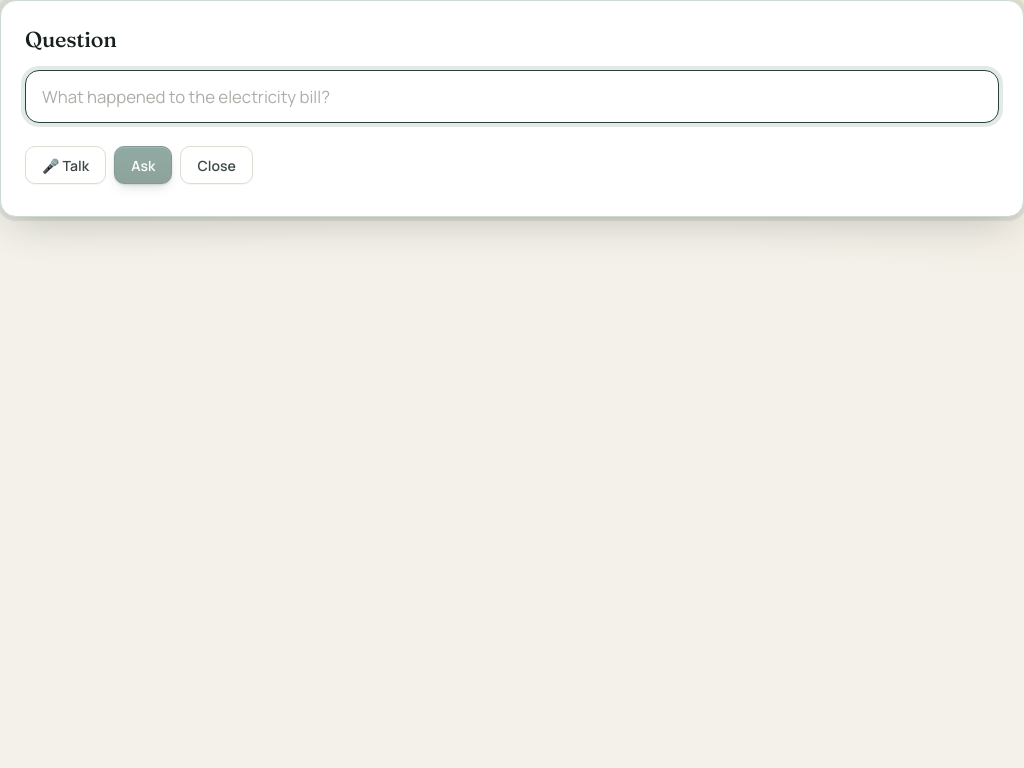
Spoken corrections › cancelling the proposal leaves the record unchanged
The image size is (1024, 768).
Type "Change the property on this bill to Oak Street" into the field labelled "Question" at (512, 97), box [25,70,999,123]
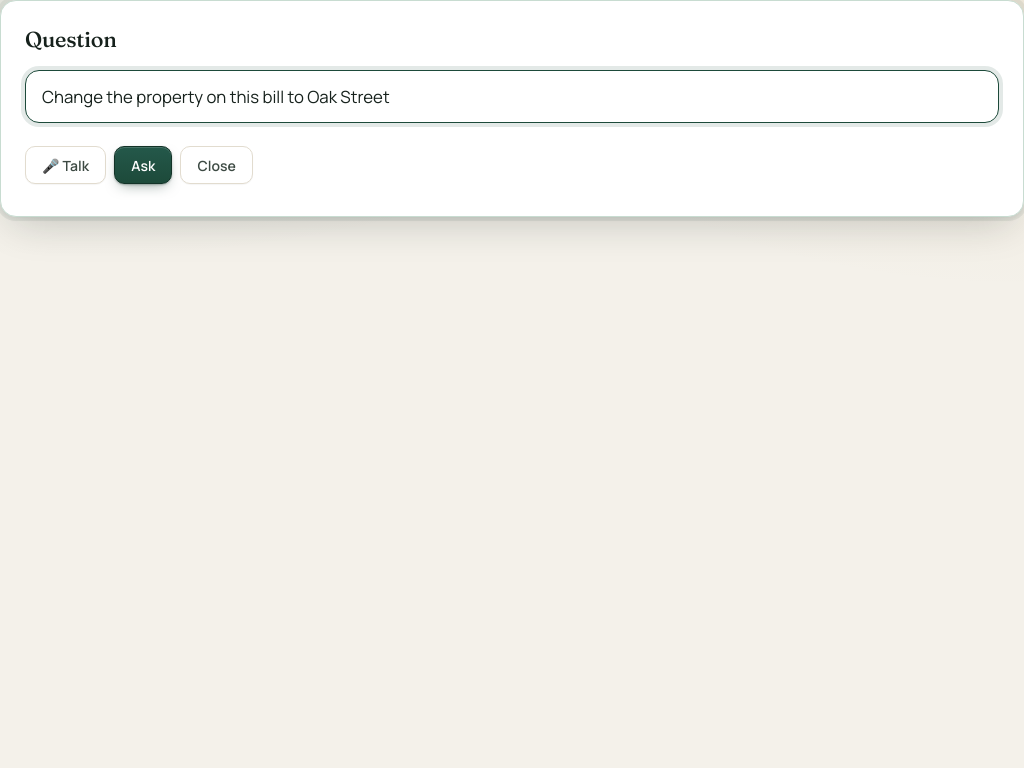
Click the button "Ask" at (143, 165), box [114,146,172,184]
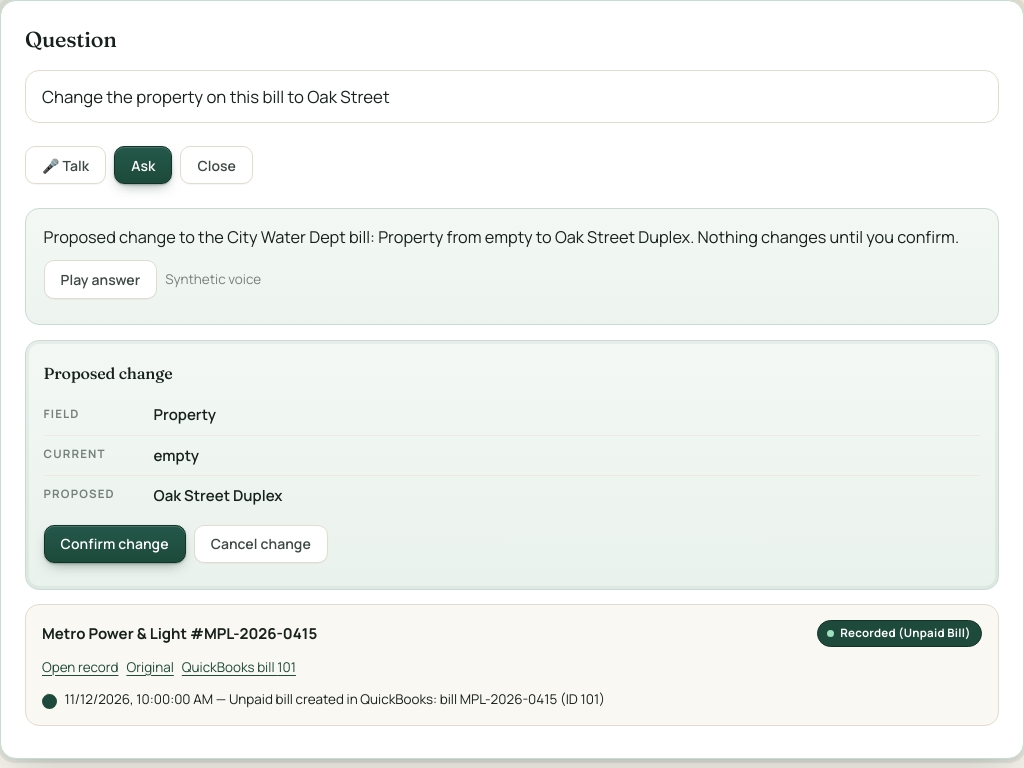
Click the button "Cancel change" at (261, 544), box [194,525,328,563]
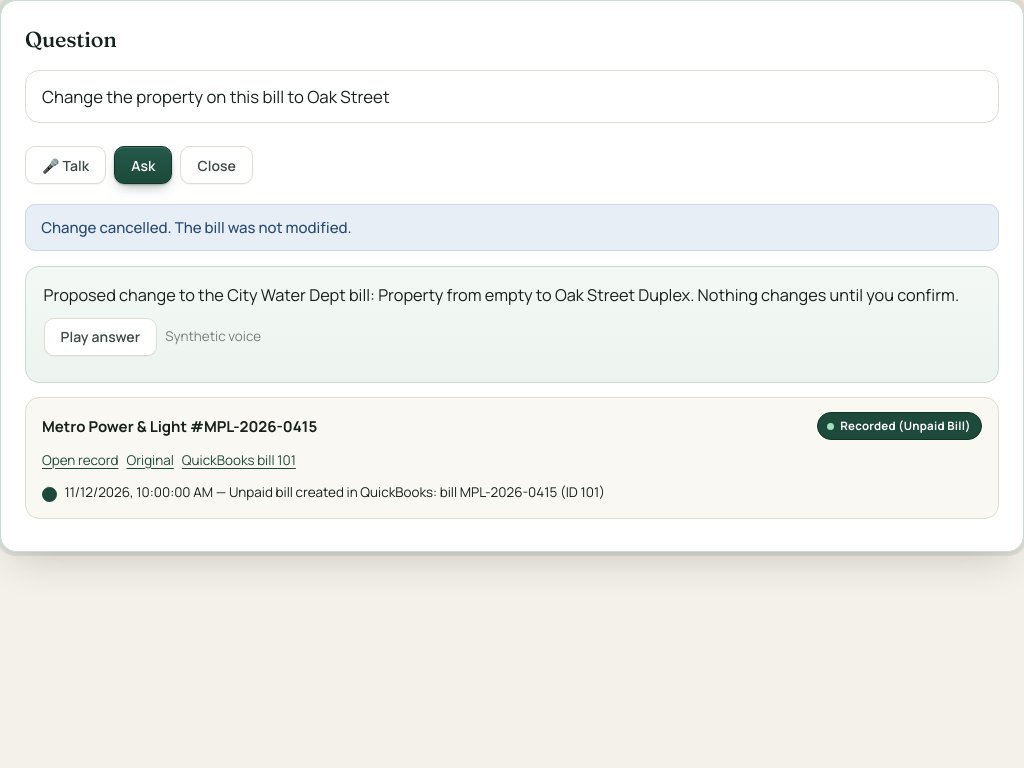
expect the text "Change cancelled. The bill was not modified." is shown: met, box [25,204,999,251]
